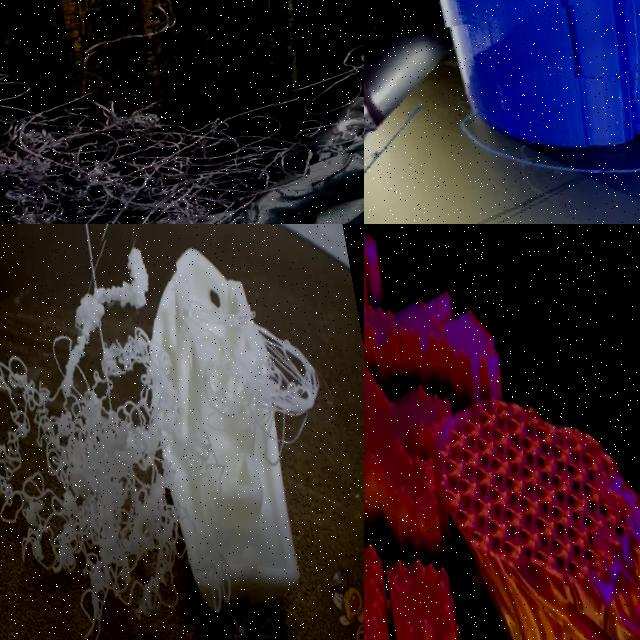spaghetti: (0, 237, 215, 640), (0, 11, 330, 224), (253, 323, 322, 447)
